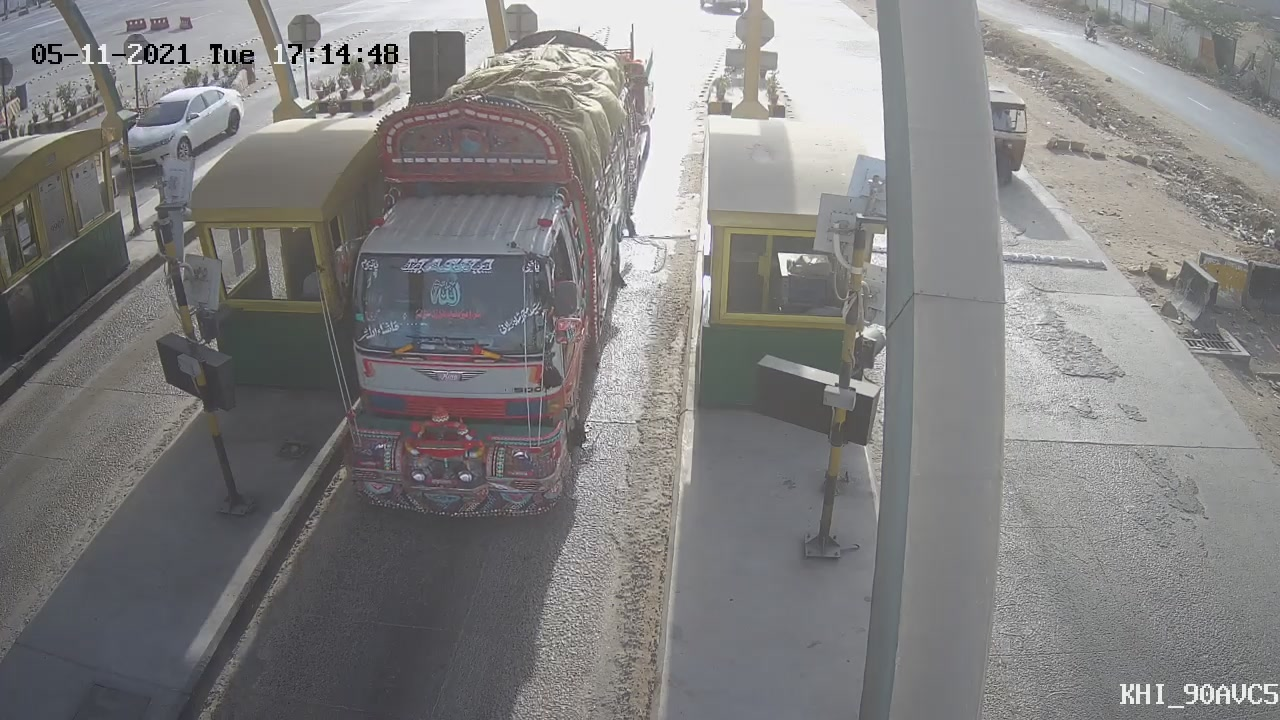F5: (282, 12, 683, 553)
